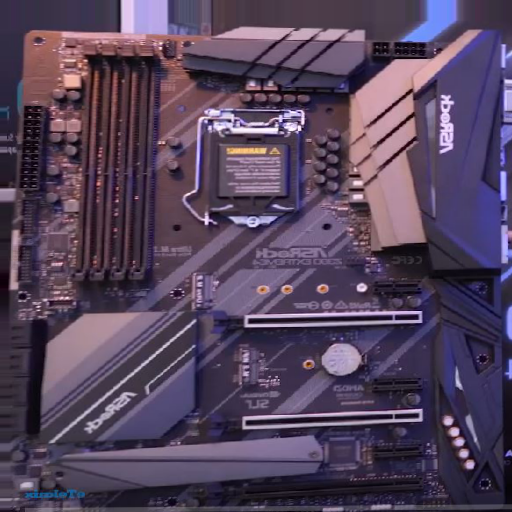CPU: (199, 117, 304, 228)
GPU: (208, 408, 427, 441), (211, 307, 426, 337)
MOTHERBOARD: (9, 25, 505, 510)
RAM: (68, 42, 158, 286)
SSD: (234, 341, 267, 387), (190, 271, 212, 312)
